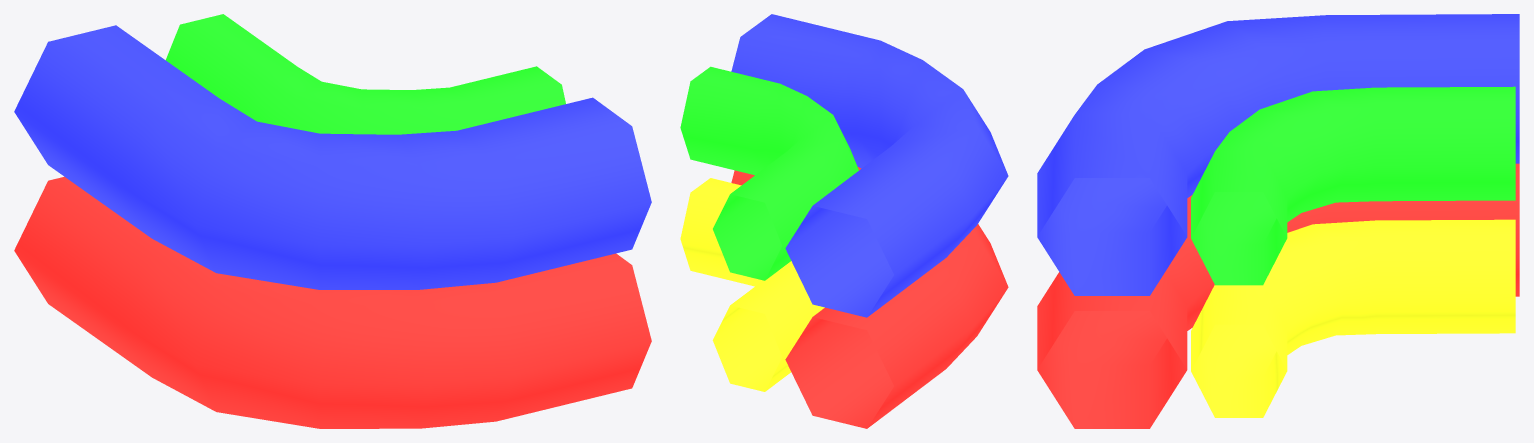
Rendered from teste.fbx.
3 renders of one model, left to right at view 1: azimuth 30°, elevation 25°; view 2: azimuth 150°, elevation 25°; view 3: azimuth 270°, elevation 25°, orthographic. The views are drawn at different scales.
Parts seen in each view (by area): view 1: Cube; view 2: Cube; view 3: Cube.
Boxes of the visible parts, x1,y1,x2,y2 form: Cube: (14, 14, 651, 428); Cube: (680, 14, 1008, 428); Cube: (1037, 14, 1519, 428).
Size of the model in its own units: 270 by 174 by 303.
